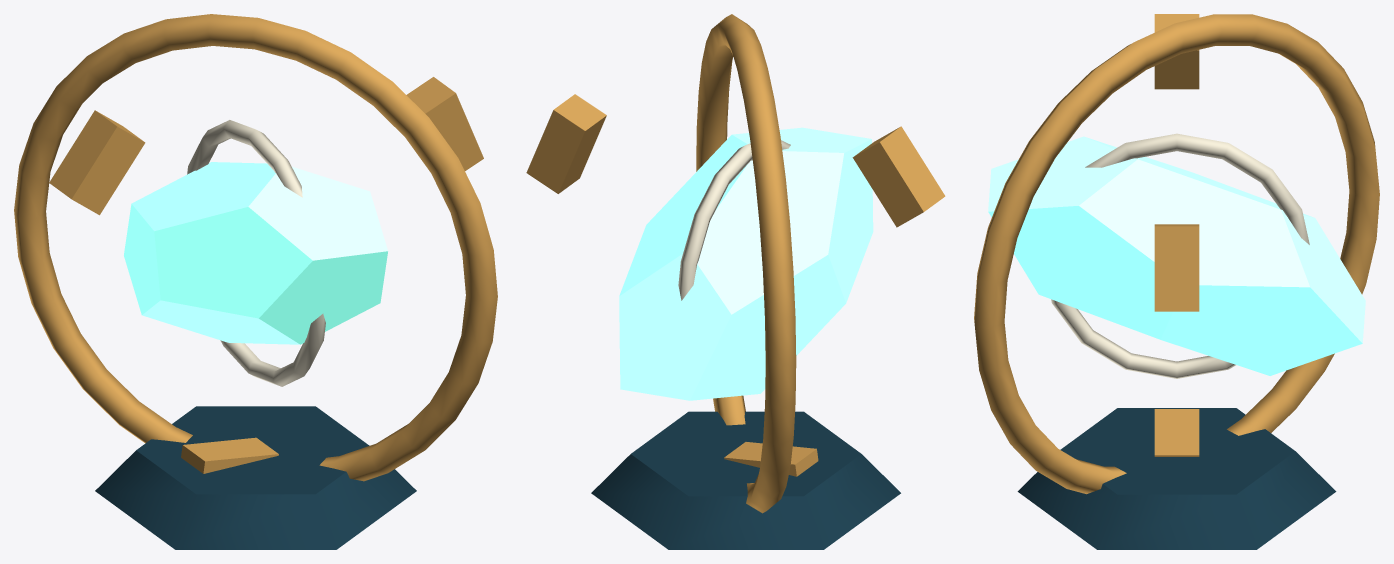
The model's file is relic-09.glb.
3 views of the same model, side by side, from view 1: azimuth 30°, elevation 25°; view 2: azimuth 150°, elevation 25°; view 3: azimuth 270°, elevation 25° (orthographic). The views are drawn at different scales.
Parts seen in each view (by area): view 1: aged-brass-merged, aether-glass-merged, deep-basalt-merged, chalk-sail-merged; view 2: aether-glass-merged, aged-brass-merged, deep-basalt-merged, chalk-sail-merged; view 3: aether-glass-merged, aged-brass-merged, deep-basalt-merged, chalk-sail-merged.
Part boxes in pixels (<box>): aged-brass-merged: <box>14,14,497,481</box>; aether-glass-merged: <box>124,162,388,344</box>; deep-basalt-merged: <box>95,406,416,549</box>; chalk-sail-merged: <box>187,120,325,386</box>; aether-glass-merged: <box>619,127,873,400</box>; aged-brass-merged: <box>526,14,945,513</box>; deep-basalt-merged: <box>591,411,900,549</box>; chalk-sail-merged: <box>678,140,790,300</box>; aether-glass-merged: <box>988,136,1365,375</box>; aged-brass-merged: <box>974,14,1379,494</box>; deep-basalt-merged: <box>1017,408,1336,549</box>; chalk-sail-merged: <box>1051,133,1309,378</box>.
Bounding box in the file's own units: 1.27 × 1.39 × 1.09.
